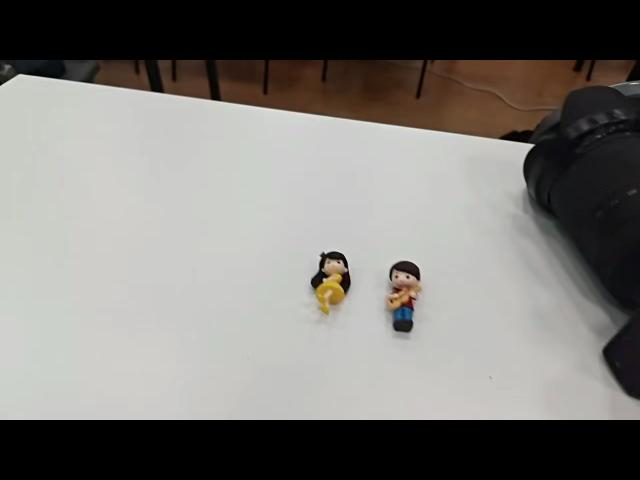man: (384, 256, 426, 336)
woman: (306, 250, 352, 318)
